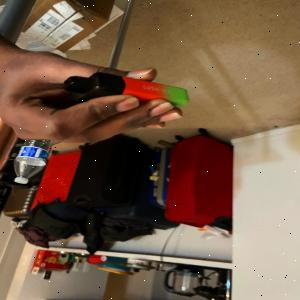Swift-E-Ciggirate: (57, 72, 192, 111)
